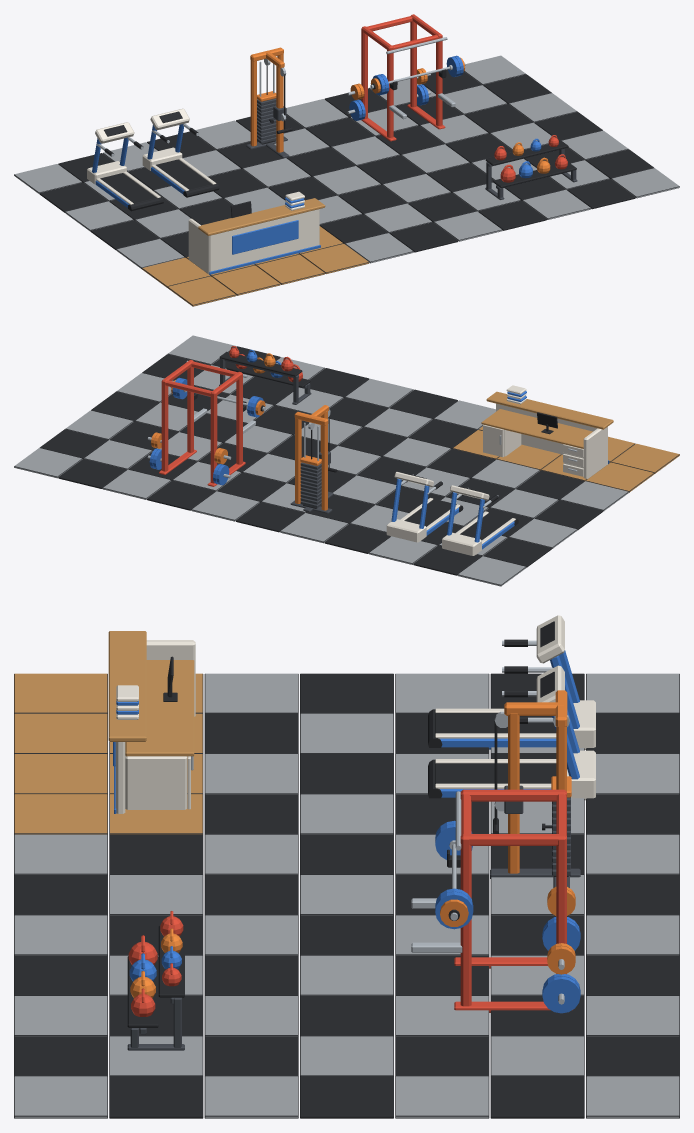
File: low-poly-town-gym.glb
3 views of the same model, one above another, from view 1: azimuth 30°, elevation 25°; view 2: azimuth 150°, elevation 25°; view 3: azimuth 270°, elevation 25° (orthographic). The views are drawn at different scales.
Visible parts, largest first — view 1: RubberFlooring, FrontPanel, CounterTop, Sign, EndPanel_L, B_Belt, A_Belt, Upright_L.002, Shelf_Lower, FrontColumn, Upright_Front_R, Upright_Back_R (+5 smaller); view 2: RubberFlooring, WorkSurface, CounterTop, EndPanel_L, FrontPanel, Upright_Back_R, B_MotorHood, A_MotorHood, Upright_Back_L, Upright_Front_L, A_Belt, Upright_L.002 (+6 smaller); view 3: RubberFlooring, WorkSurface, CounterTop, Pedestal_R, B_Belt, A_Belt, Upright_Front_R, FrontColumn, TopSide_L, TopSide_R, Upright_Back_R, EndPanel_L (+11 smaller).
Boxes of the visible parts, <box> form: RubberFlooring: <box>14,55,679,306</box>; FrontPanel: <box>208,209,319,274</box>; CounterTop: <box>198,198,325,235</box>; Sign: <box>232,220,298,254</box>; EndPanel_L: <box>188,218,208,273</box>; B_Belt: <box>156,159,212,190</box>; A_Belt: <box>100,173,156,203</box>; Upright_L.002: <box>250,60,256,146</box>; Shelf_Lower: <box>493,162,576,187</box>; FrontColumn: <box>276,65,283,152</box>; Upright_Front_R: <box>436,35,442,125</box>; Upright_Back_R: <box>410,21,416,107</box>; RubberFlooring: <box>14,335,679,586</box>; WorkSurface: <box>481,409,592,448</box>; CounterTop: <box>486,391,613,429</box>; EndPanel_L: <box>583,427,607,478</box>; FrontPanel: <box>496,403,607,464</box>; Upright_Back_R: <box>161,381,168,471</box>; B_MotorHood: <box>386,519,426,542</box>; A_MotorHood: <box>442,532,481,555</box>; Upright_Back_L: <box>210,393,217,483</box>; Upright_Front_L: <box>236,374,242,464</box>; A_Belt: <box>460,513,511,540</box>; Upright_L.002: <box>321,424,327,510</box>; RubberFlooring: <box>14,673,679,1118</box>; WorkSurface: <box>125,660,194,756</box>; CounterTop: <box>108,631,146,741</box>; Pedestal_R: <box>125,756,187,809</box>; B_Belt: <box>435,763,556,783</box>; A_Belt: <box>435,713,556,733</box>; Upright_Front_R: <box>460,839,471,1006</box>; FrontColumn: <box>508,713,519,873</box>; TopSide_L: <box>460,789,566,801</box>; TopSide_R: <box>460,834,566,845</box>; Upright_Back_R: <box>556,839,566,974</box>; EndPanel_L: <box>146,640,195,716</box>.
Size of the model in its own units: 43.94 by 8.13 by 27.94.
